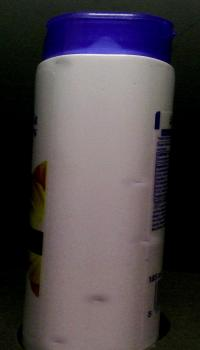dent_marginal: (117, 173, 158, 194), (71, 290, 118, 306), (130, 234, 168, 251), (42, 333, 78, 348), (48, 59, 80, 74)
